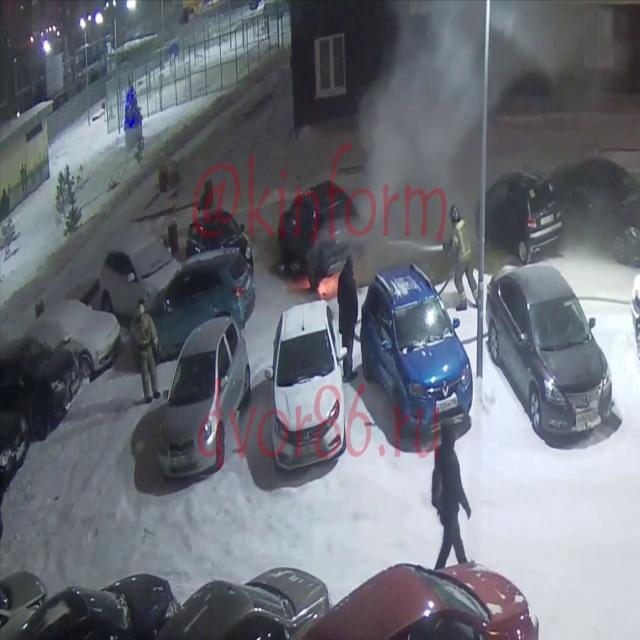Smoke: (344, 0, 640, 262)
